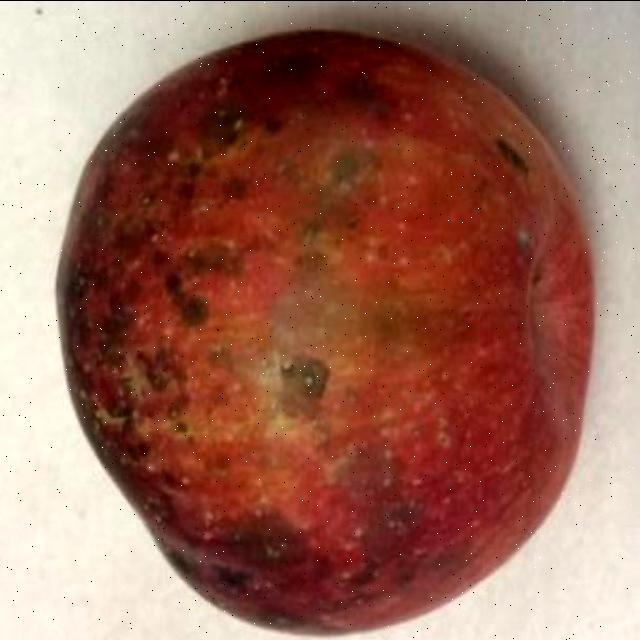BLOTCH: (50, 6, 620, 636)
